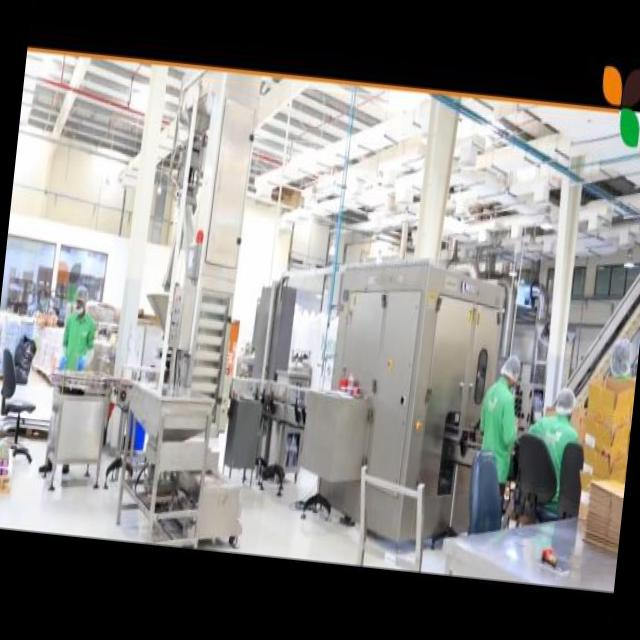hairnet: (609, 336, 635, 378), (554, 386, 576, 413), (502, 354, 521, 380), (74, 285, 88, 302)
